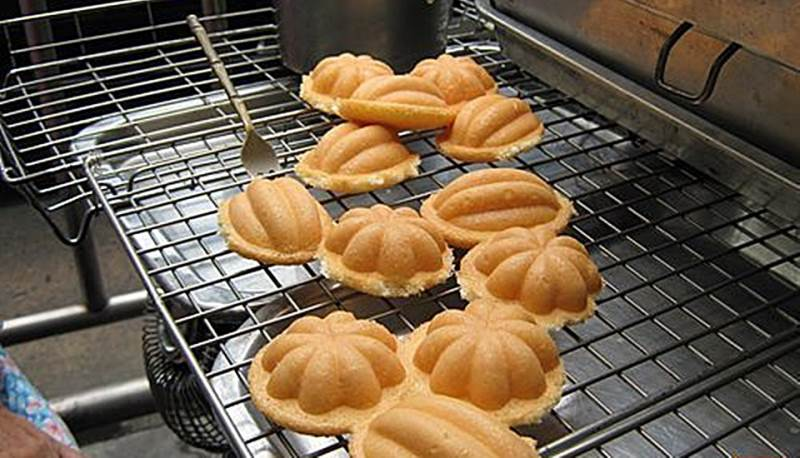kanomkai: (404, 290, 579, 431), (251, 301, 421, 438), (417, 159, 585, 255), (319, 200, 461, 301), (215, 170, 347, 273), (291, 111, 432, 196), (438, 87, 556, 171)
